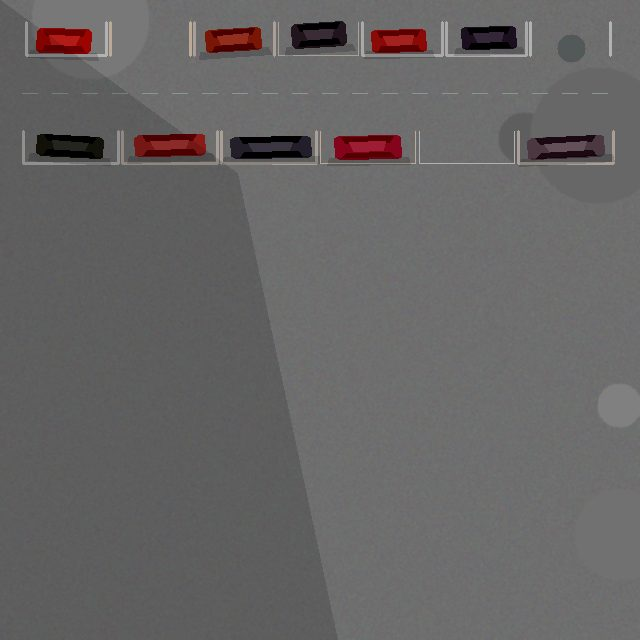space-empty: (419, 131, 514, 163), (110, 22, 190, 55), (530, 22, 610, 55)
space-occupied: (23, 131, 118, 163), (122, 131, 217, 163), (221, 131, 316, 163), (320, 131, 415, 163), (518, 131, 613, 163), (26, 22, 106, 55), (194, 22, 274, 55), (278, 22, 358, 55), (362, 22, 442, 55), (446, 22, 526, 55)
